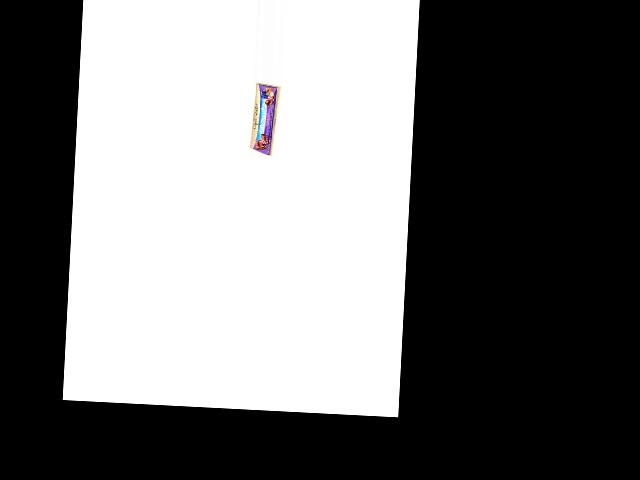chocolate: (252, 82, 280, 159)
